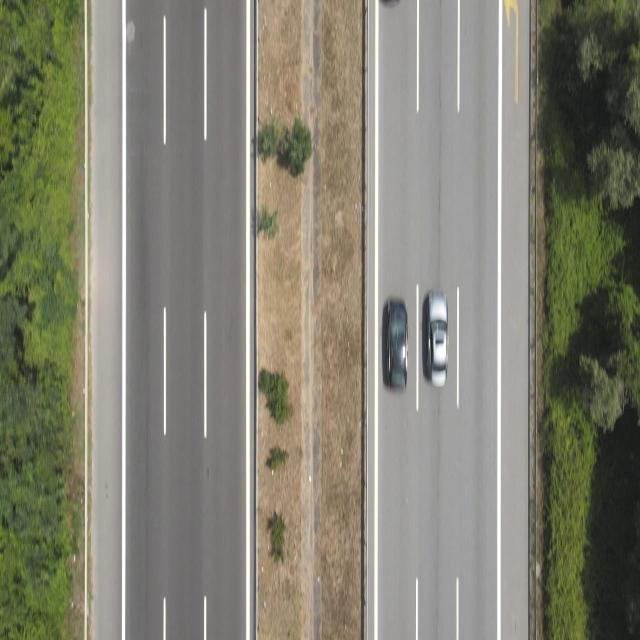Car: (378, 291, 414, 393), (425, 291, 451, 395)
